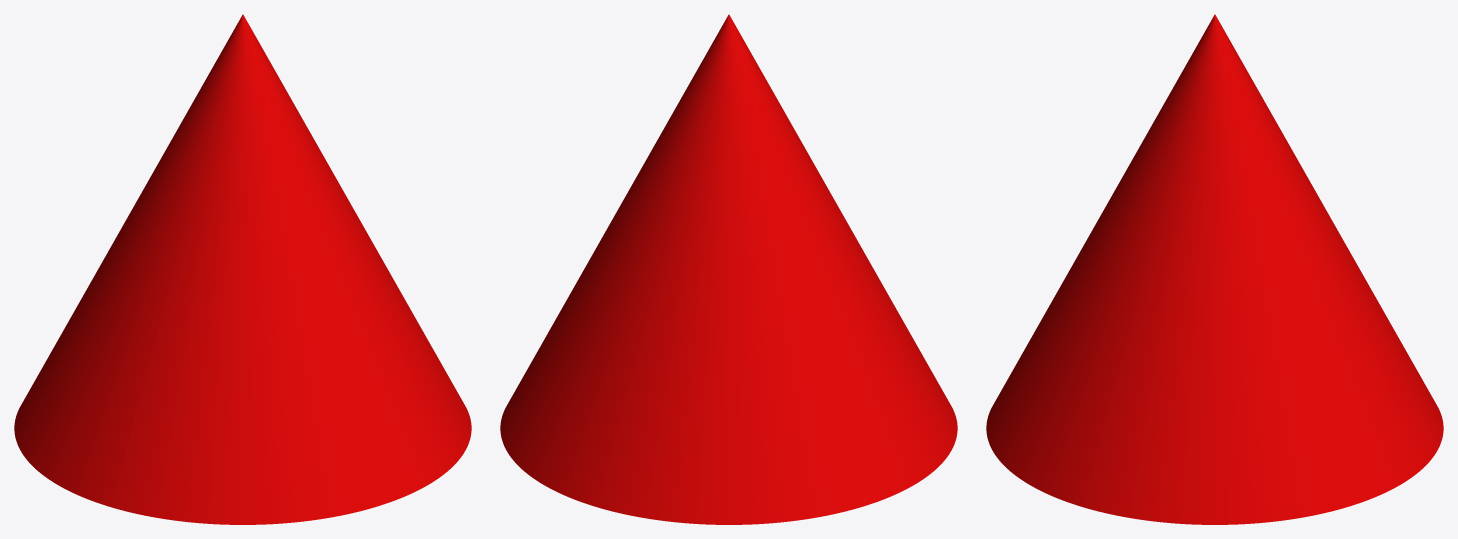
Rendered from enemy_cone.glb.
3 views of the same model, side by side, from view 1: azimuth 30°, elevation 25°; view 2: azimuth 150°, elevation 25°; view 3: azimuth 270°, elevation 25° (orthographic).
Parts seen in each view (by area): view 1: Cone; view 2: Cone; view 3: Cone.
Part boxes in pixels (x1,y1,x2,y2): Cone: (14,14,471,524); Cone: (500,14,957,524); Cone: (986,14,1443,524).
Size of the model in its own units: 2 by 2 by 2.
